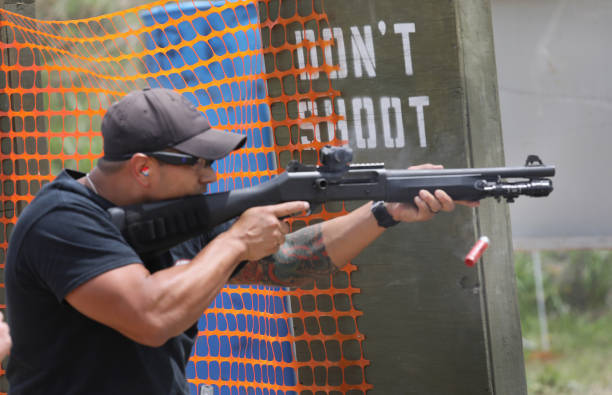shotgun: (123, 148, 570, 226)
